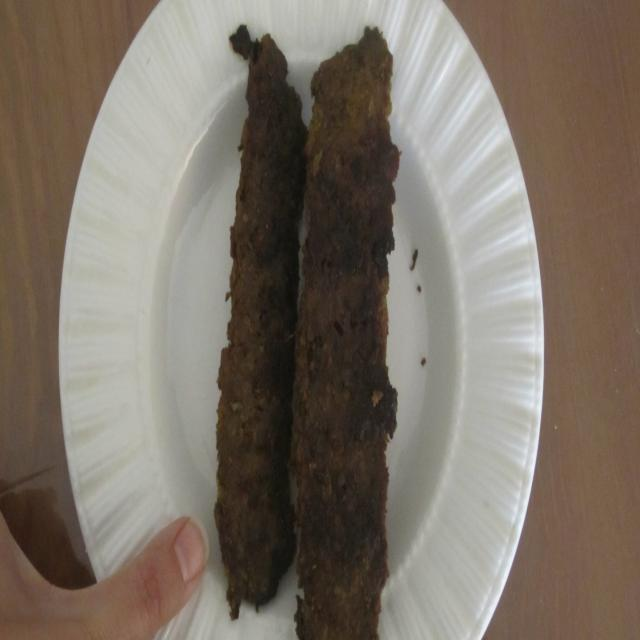cutlet: (213, 19, 422, 640)
